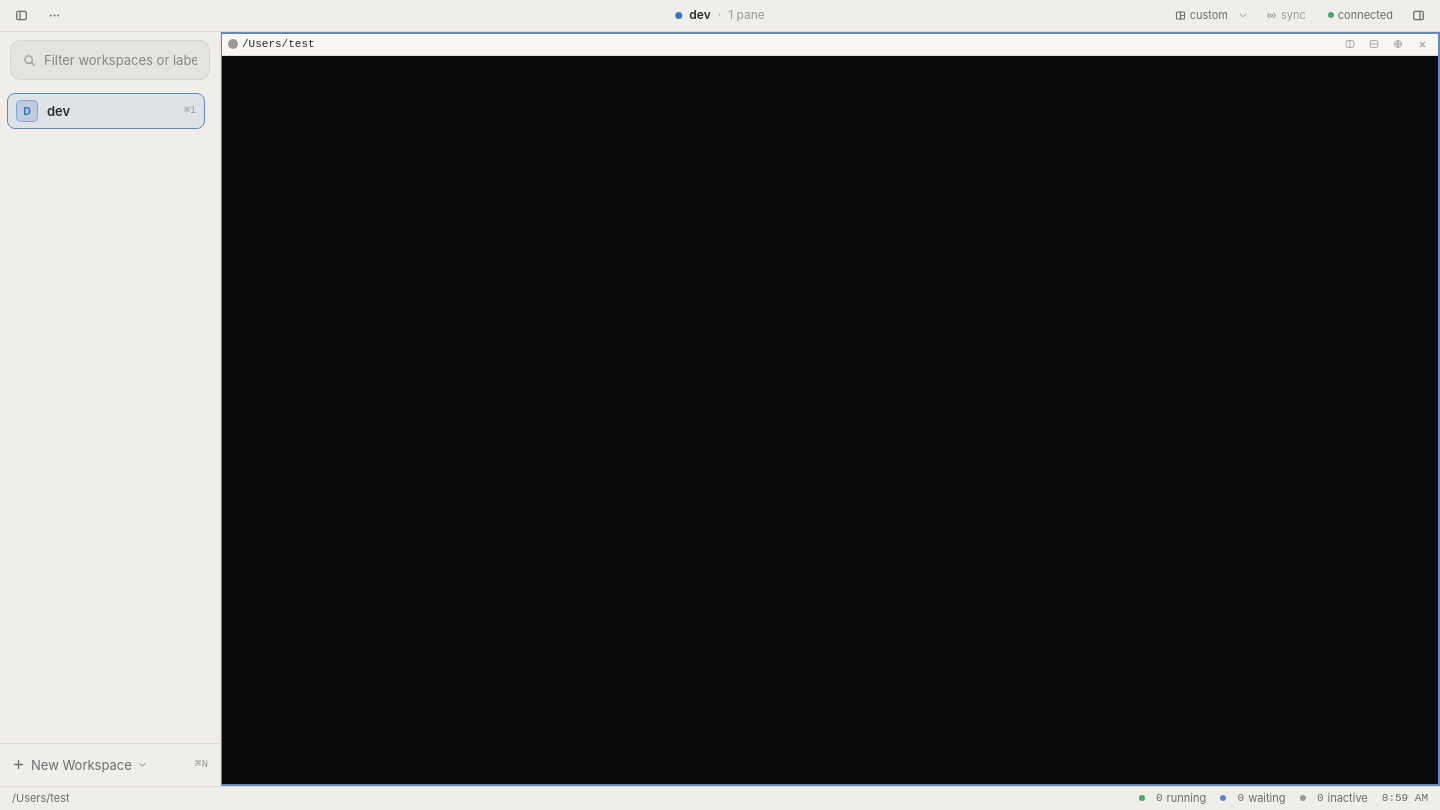
Test: the ••• title-bar menu (APP-052/053/054) › opens with Settings, the state-reflecting Inspector item, Help and Restart Socket Server
The image size is (1440, 810).
What coordinates should you click on to do the following:
click the button with test id "titlebar-menu-toggle"
I would click on:
 (54, 16)
Its box is [45, 6, 64, 25].
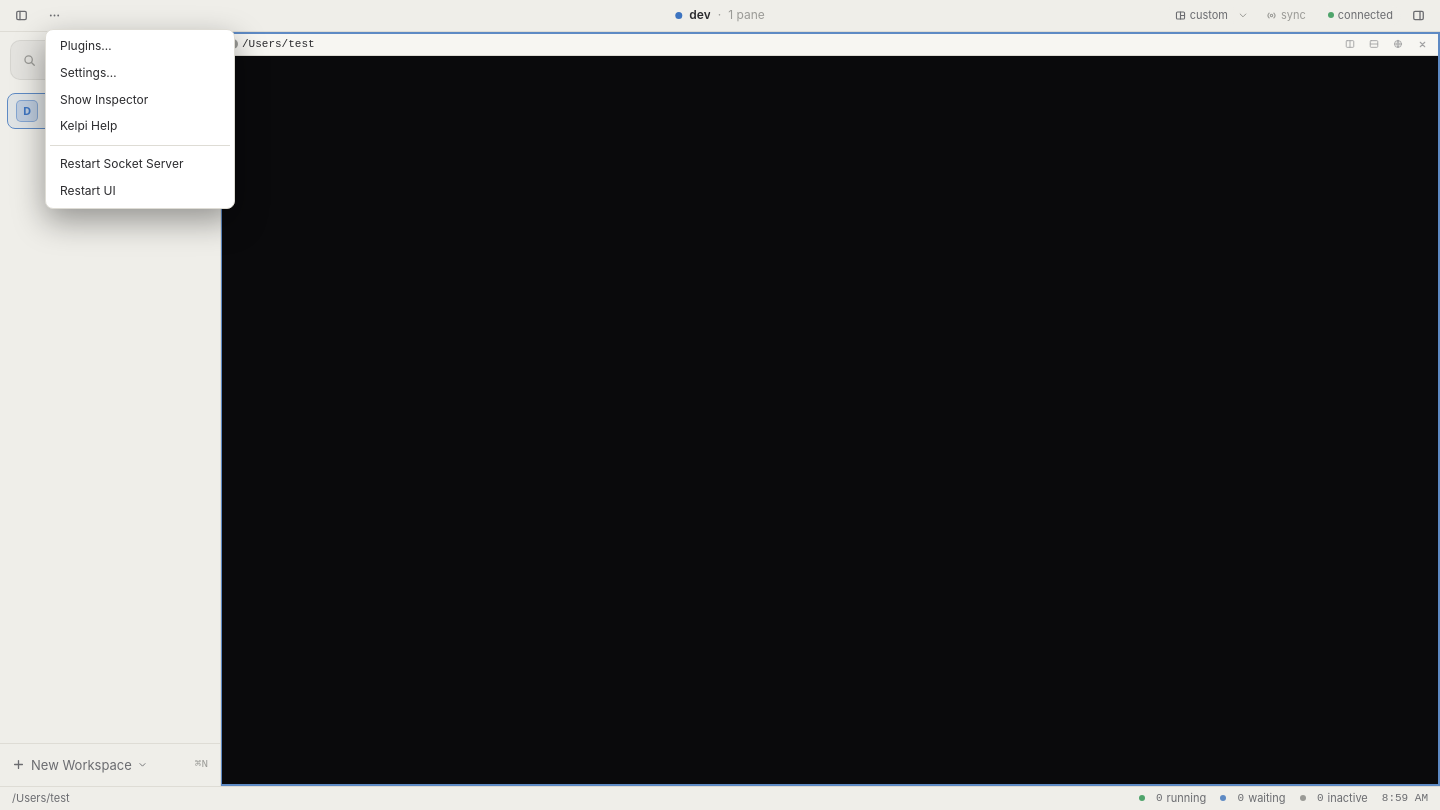
Result: the text "Settings…" is shown at [60, 65, 117, 80]
Result: the text "Show Inspector" is shown at [60, 92, 148, 107]
Result: the text "Kelpi Help" is shown at [60, 118, 117, 133]
